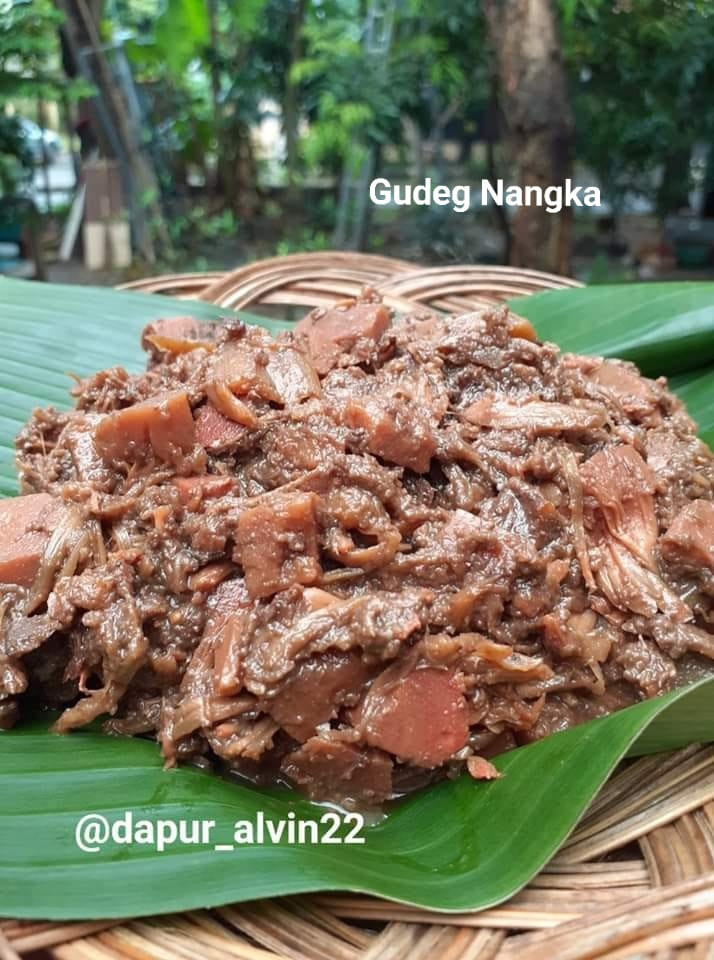gudeg: (11, 294, 712, 736)
